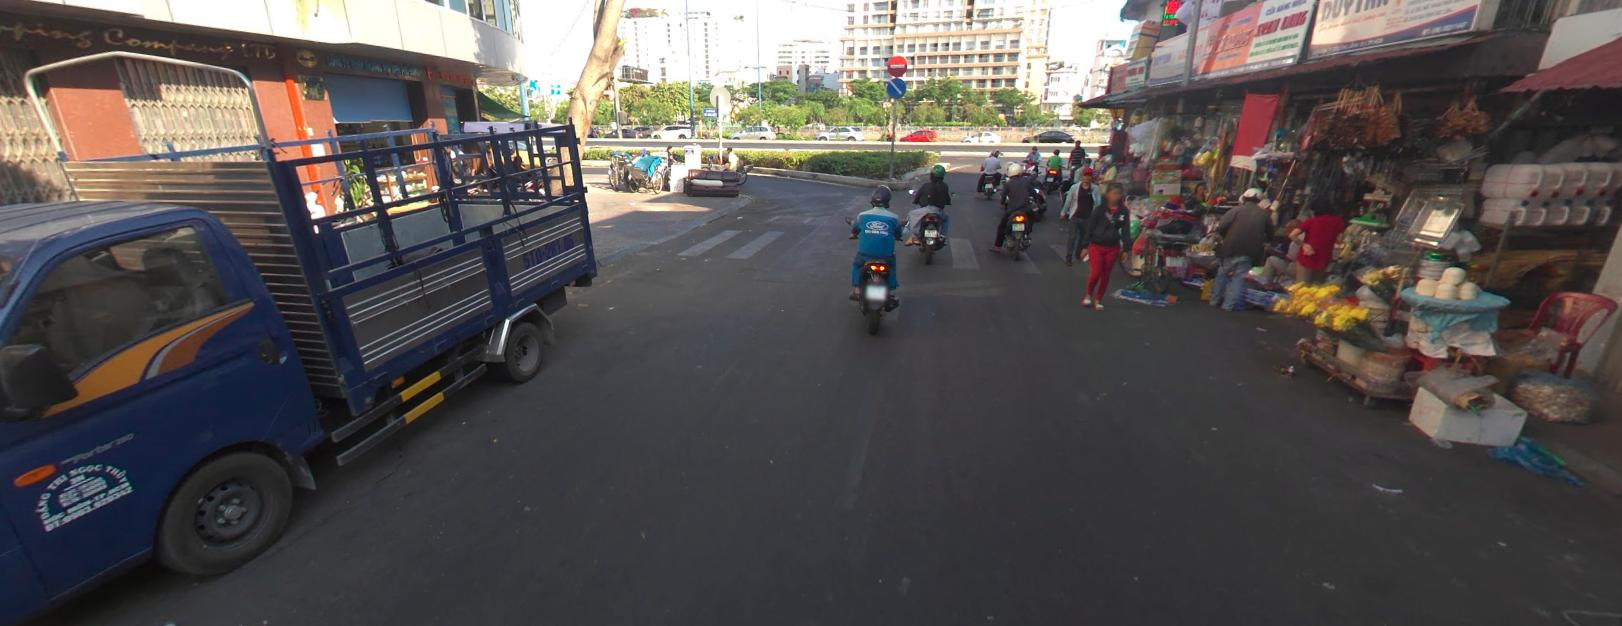Cam nguoc chieu: (887, 55, 907, 76)
Hieu lenh: (885, 76, 905, 98)
